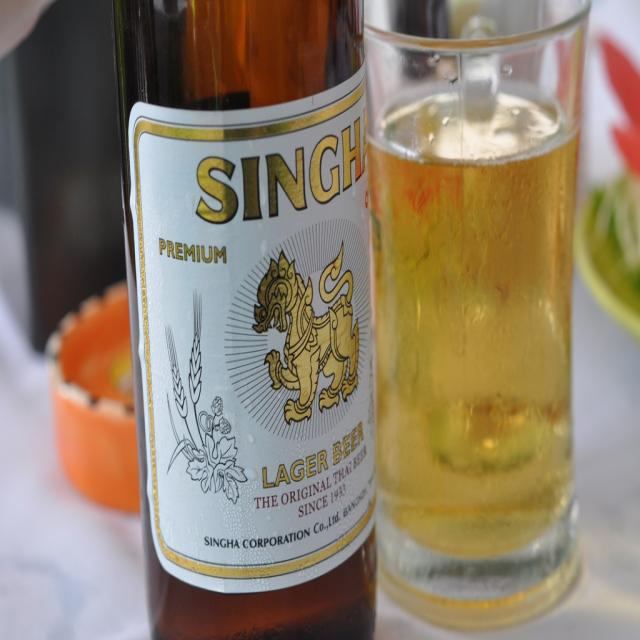singha: (134, 81, 377, 580)
